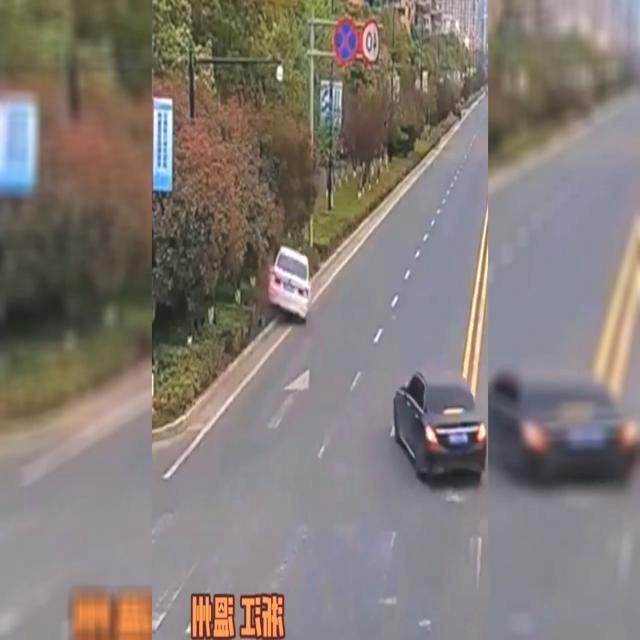accident: (212, 223, 332, 353)
